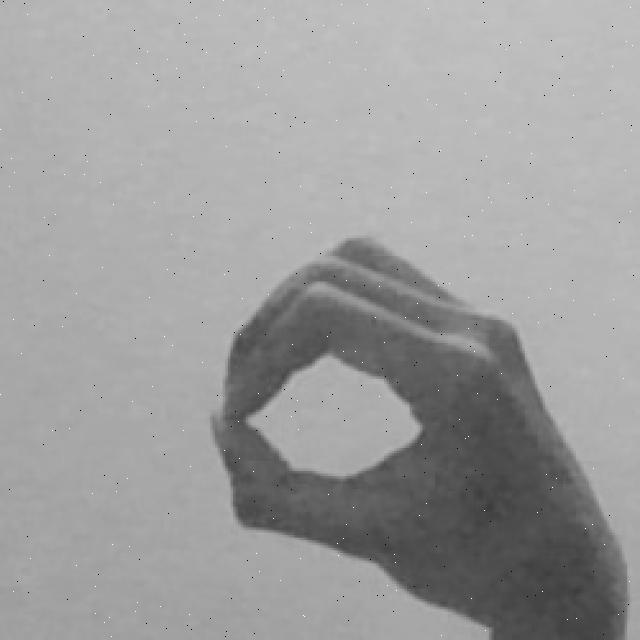O: (203, 229, 627, 640)
